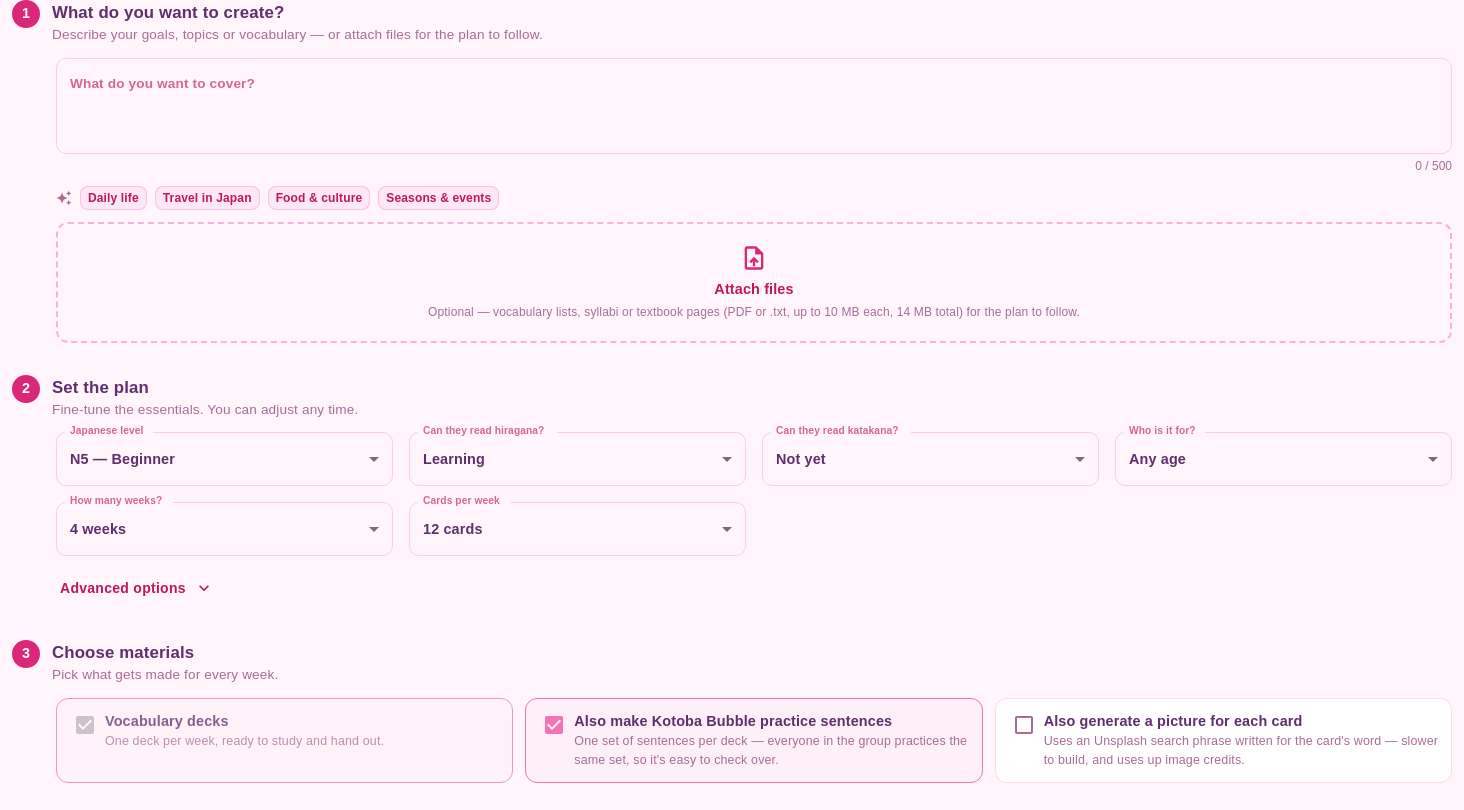
it: LessonSetBuilder kana support › flags the sounds the group has not mastered, and no others
Replace the text in the text box labelled "What do you want to cover?" with "Food words" at (754, 106), box x1=70 y1=74 x2=1438 y2=137
(page scrolled)
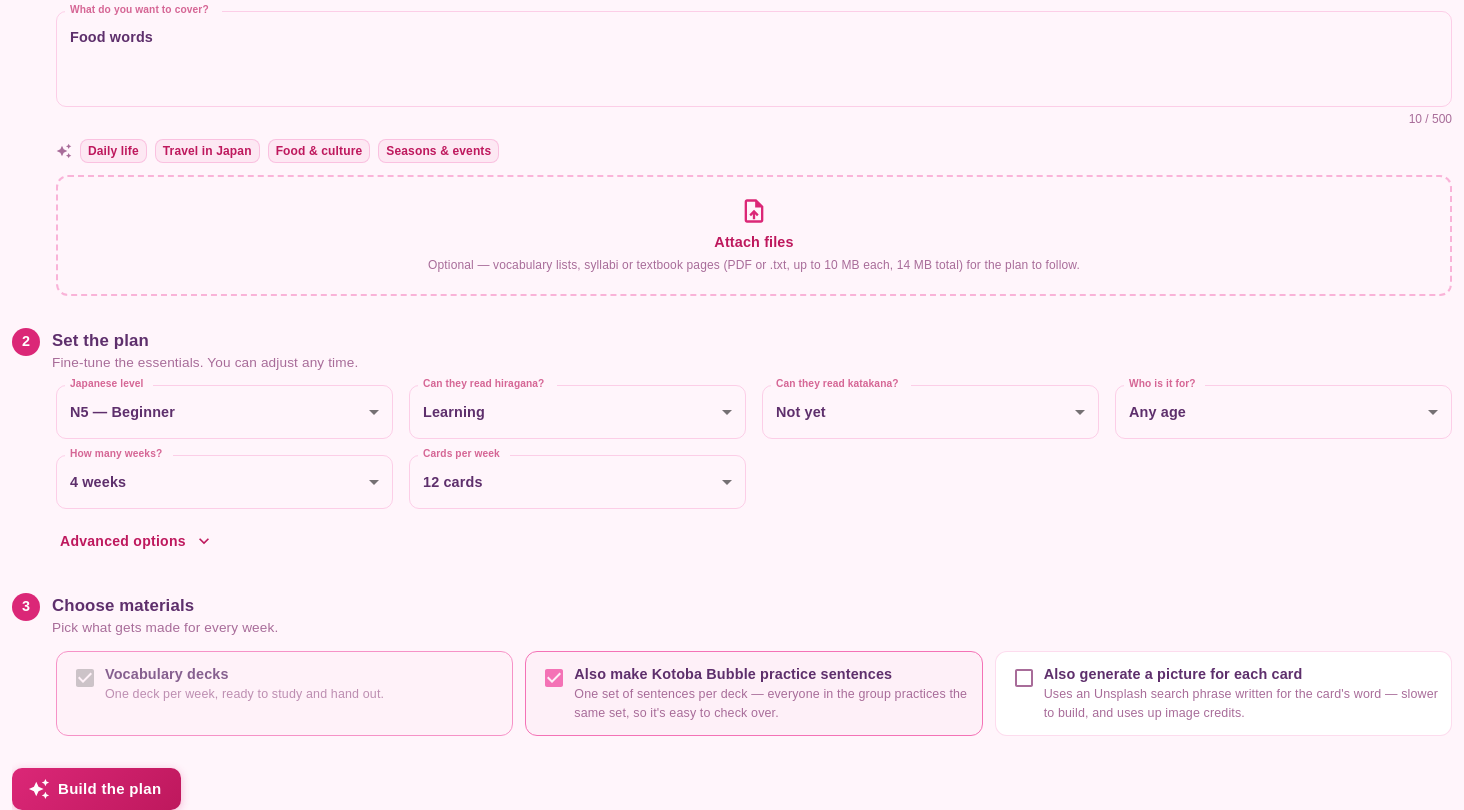
Click the button "Build the plan".
click(97, 789)  # box x1=12 y1=768 x2=181 y2=809
(page scrolled)
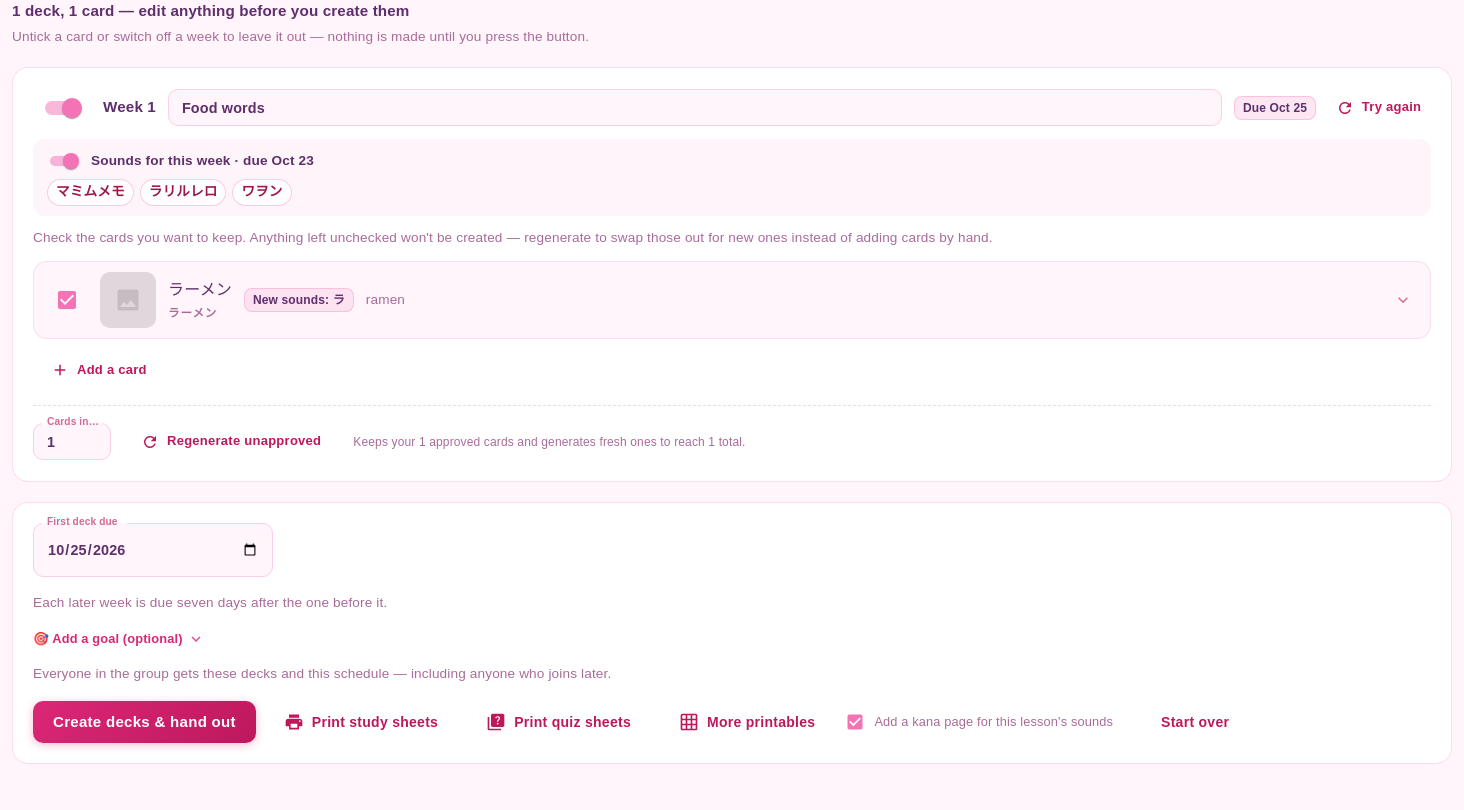
Now the field showing "Food words" is shown, box x1=168 y1=89 x2=1222 y2=126
Now the text "New sounds: ラ" is shown, box x1=245 y1=290 x2=353 y2=308
